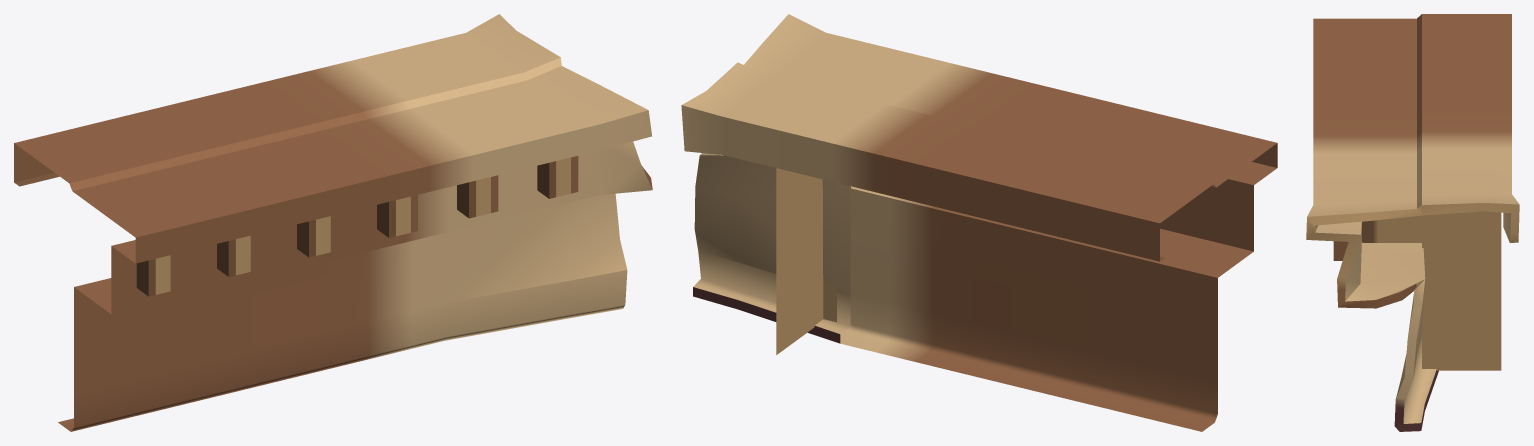
The model's file is DBK_Cornice_A_End.fbx.
The picture shows the model from 3 angles, left to right: view 1: azimuth 30°, elevation 25°; view 2: azimuth 150°, elevation 25°; view 3: azimuth 270°, elevation 25°; orthographic projection. The views are drawn at different scales.
Visible parts, largest first — view 1: DBK_Cornice_A_End; view 2: DBK_Cornice_A_End; view 3: DBK_Cornice_A_End.
Boxes of the visible parts, left/top/right/bottom form: DBK_Cornice_A_End: left=14, top=14, right=652, bottom=431; DBK_Cornice_A_End: left=681, top=14, right=1277, bottom=431; DBK_Cornice_A_End: left=1306, top=14, right=1519, bottom=431.
Size of the model in its own units: 145 by 64.81 by 60.47.
